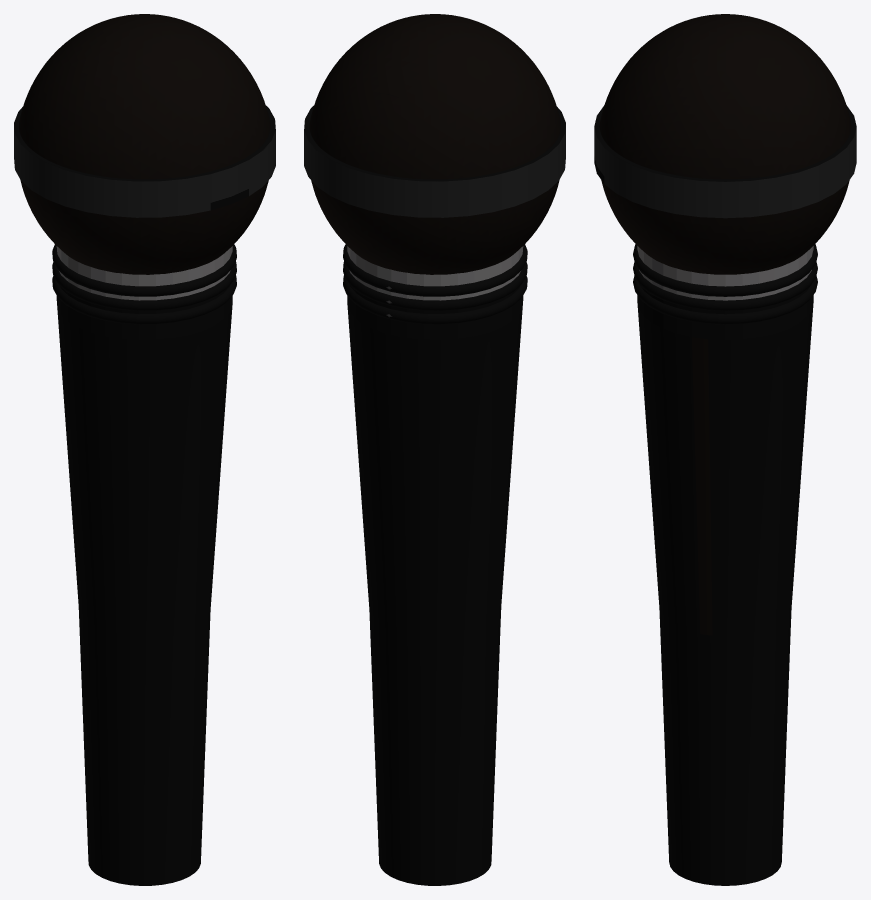
The model's file is Microphone.obj.
The picture shows the model from 3 angles, left to right: view 1: azimuth 30°, elevation 25°; view 2: azimuth 150°, elevation 25°; view 3: azimuth 270°, elevation 25°; orthographic projection.
Parts seen in each view (by area): view 1: Microphone; view 2: Microphone; view 3: Microphone.
Boxes of the visible parts, x1=… form: Microphone: x1=14, y1=14, x2=275, y2=885; Microphone: x1=304, y1=14, x2=565, y2=885; Microphone: x1=594, y1=14, x2=856, y2=885.
Size of the model in its own units: 2.55 by 8.98 by 2.55.
Materials: 1 (1 with a texture image).
